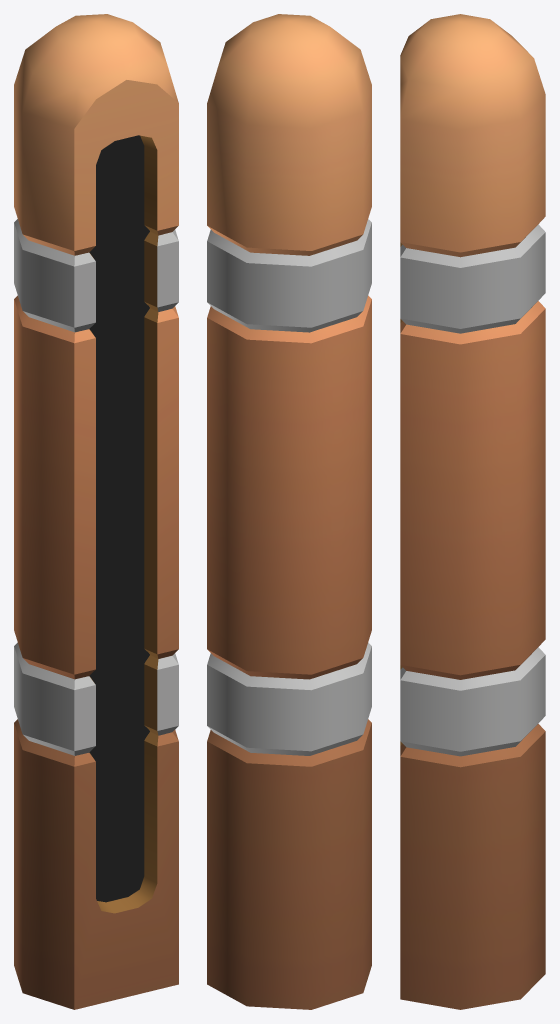
File: obstacle_10_001.fbx
3 views of the same model, side by side, from view 1: azimuth 30°, elevation 25°; view 2: azimuth 150°, elevation 25°; view 3: azimuth 270°, elevation 25° (orthographic).
Visible parts, largest first — view 1: obstacle_10_001; view 2: obstacle_10_001; view 3: obstacle_10_001.
Part boxes in pixels (x1,y1,x2,y2): obstacle_10_001: (14, 14, 178, 1009); obstacle_10_001: (207, 14, 371, 1009); obstacle_10_001: (400, 14, 545, 1009).
Size of the model in its own units: 69.28 by 59.13 by 427.
